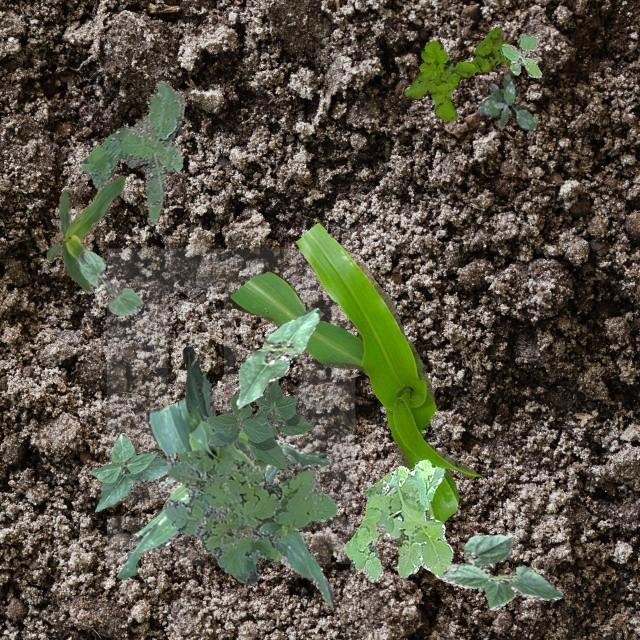crop: (228, 220, 480, 548), (146, 346, 334, 608), (116, 428, 328, 578), (202, 378, 314, 470), (440, 532, 562, 610), (46, 175, 124, 292), (236, 306, 320, 408), (86, 432, 168, 510), (75, 248, 142, 314)
weed: (164, 448, 336, 584), (80, 80, 184, 224), (344, 458, 452, 578), (404, 28, 511, 120), (478, 74, 536, 130), (500, 32, 540, 78)
